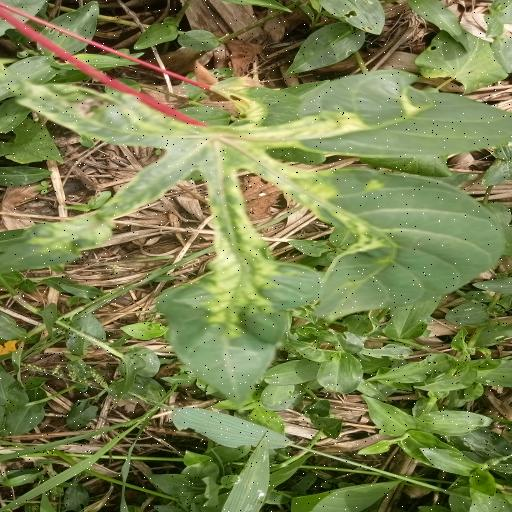Cassava_Mosaic: (3, 72, 512, 407)
